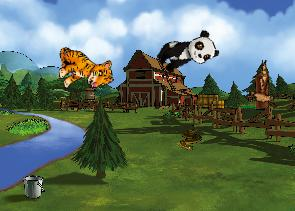eagle: (235, 60, 290, 118)
panda: (153, 27, 220, 78)
tiger: (54, 41, 114, 93)
